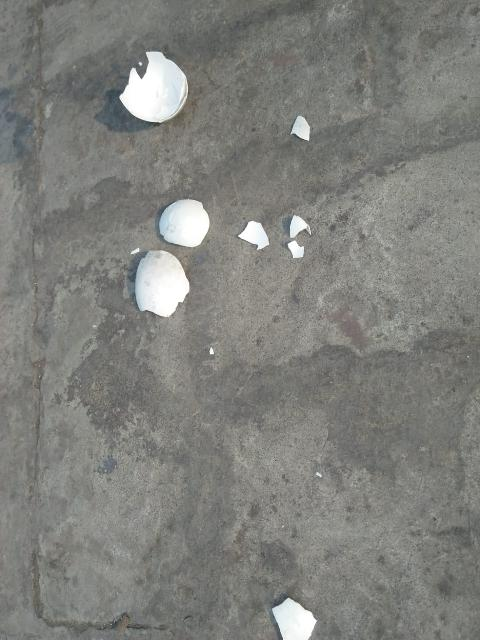Roto: (112, 48, 191, 123), (134, 249, 190, 318), (158, 198, 210, 248), (271, 596, 317, 639), (237, 220, 269, 250), (288, 214, 311, 238), (290, 115, 310, 141), (286, 240, 304, 258)
